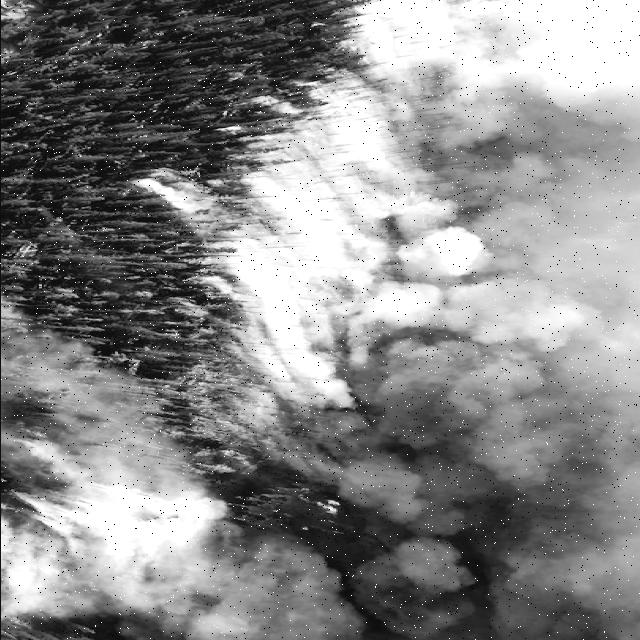api: (188, 363, 238, 416), (283, 494, 343, 525), (189, 247, 229, 293), (221, 148, 261, 170)
asap: (345, 1, 637, 636), (256, 88, 354, 472), (1, 535, 342, 640), (2, 462, 220, 532), (2, 340, 152, 407), (1, 411, 180, 459), (138, 171, 208, 225)
